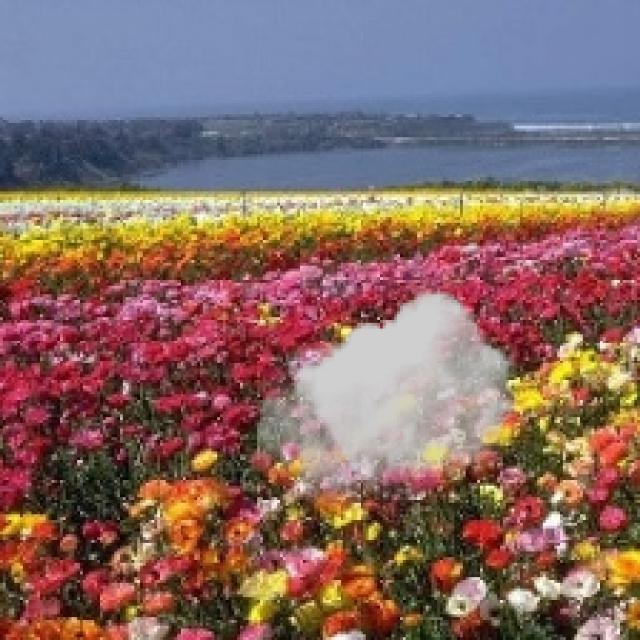smoke: (257, 291, 517, 506)
